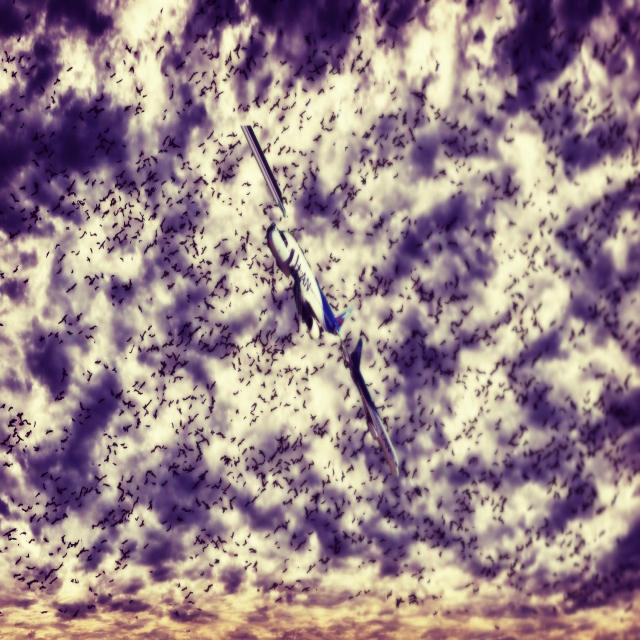airplane: (240, 122, 399, 478)
